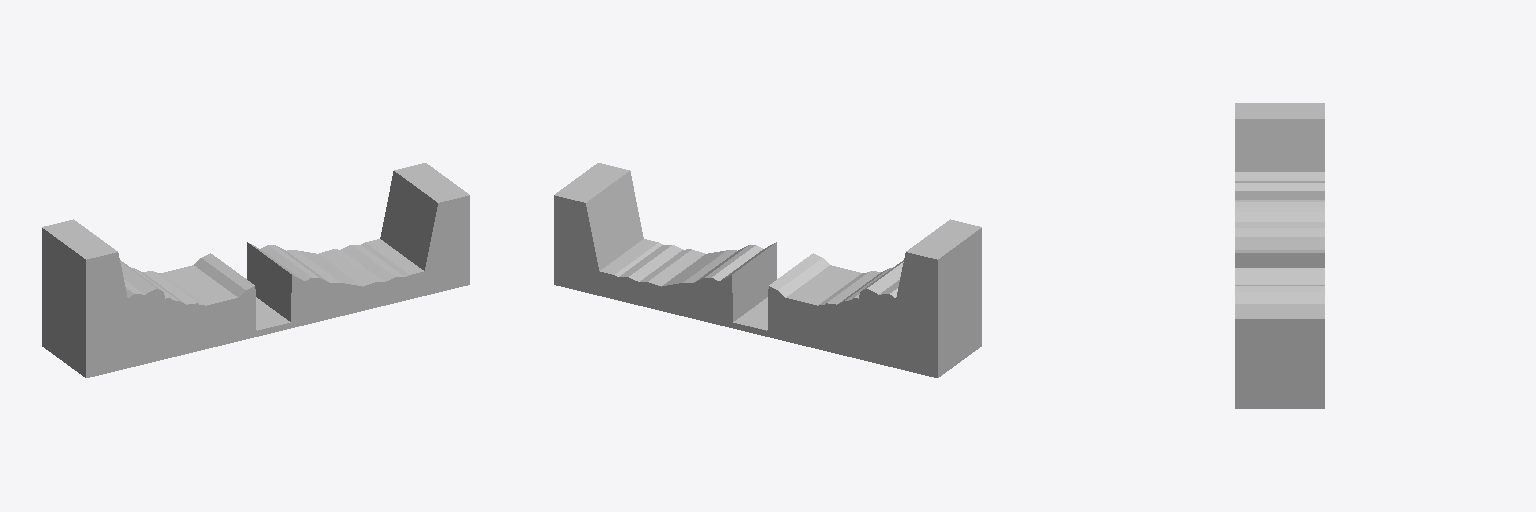
File: grasshopper-collisions-1.obj
The picture shows the model from 3 angles: view 1: azimuth 30°, elevation 25°; view 2: azimuth 150°, elevation 25°; view 3: azimuth 270°, elevation 25°; orthographic projection.
Visible parts, largest first — view 1: 02.Ground.054_Cube.4118; view 2: 02.Ground.054_Cube.4118; view 3: 02.Ground.054_Cube.4118.
Part boxes in pixels (x1,y1,x2,y2): 02.Ground.054_Cube.4118: (42, 163, 469, 377); 02.Ground.054_Cube.4118: (554, 163, 981, 377); 02.Ground.054_Cube.4118: (1235, 103, 1324, 408).
Bounding box in the file's own units: 35.86 × 10.59 × 7.2.